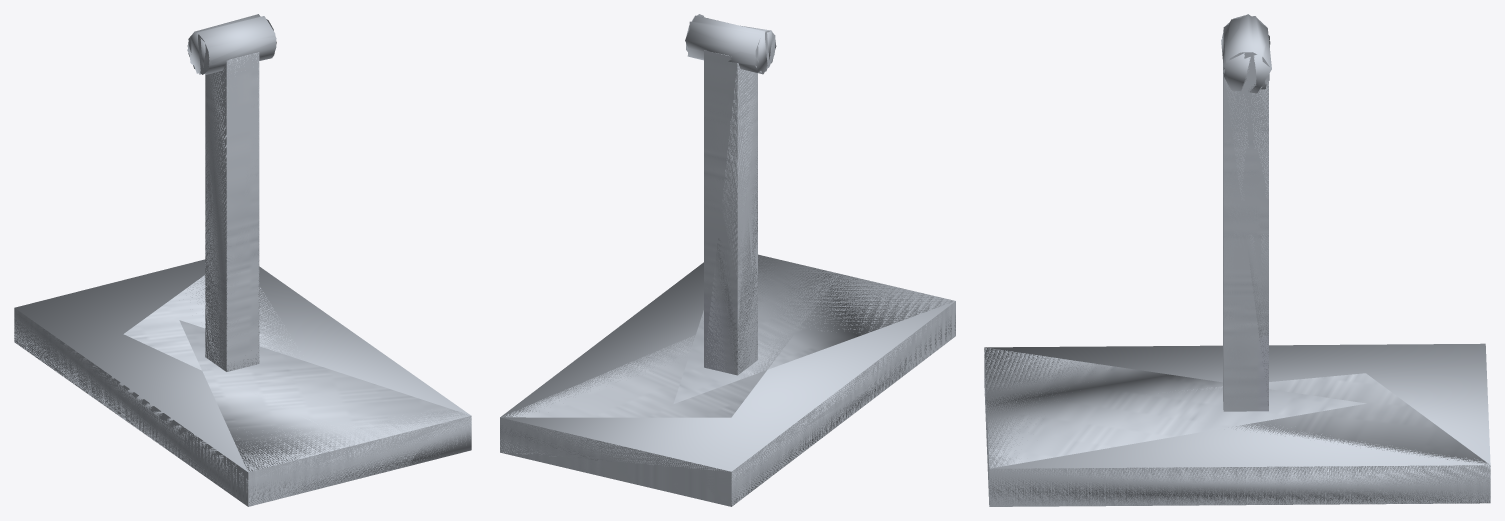
The model's file is KAMIKAZE_optim.obj.
The picture shows the model from 3 angles, left to right: view 1: azimuth 30°, elevation 25°; view 2: azimuth 150°, elevation 25°; view 3: azimuth 270°, elevation 25°; orthographic projection. The views are drawn at different scales.
Visible parts, largest first — view 1: SketchUp.002; view 2: SketchUp.002; view 3: SketchUp.002.
Part boxes in pixels (x1,y1,x2,y2): SketchUp.002: (14, 14, 471, 506); SketchUp.002: (500, 14, 955, 506); SketchUp.002: (984, 14, 1490, 506).
Bounding box in the file's own units: 4.93 × 7.51 × 8.43.
